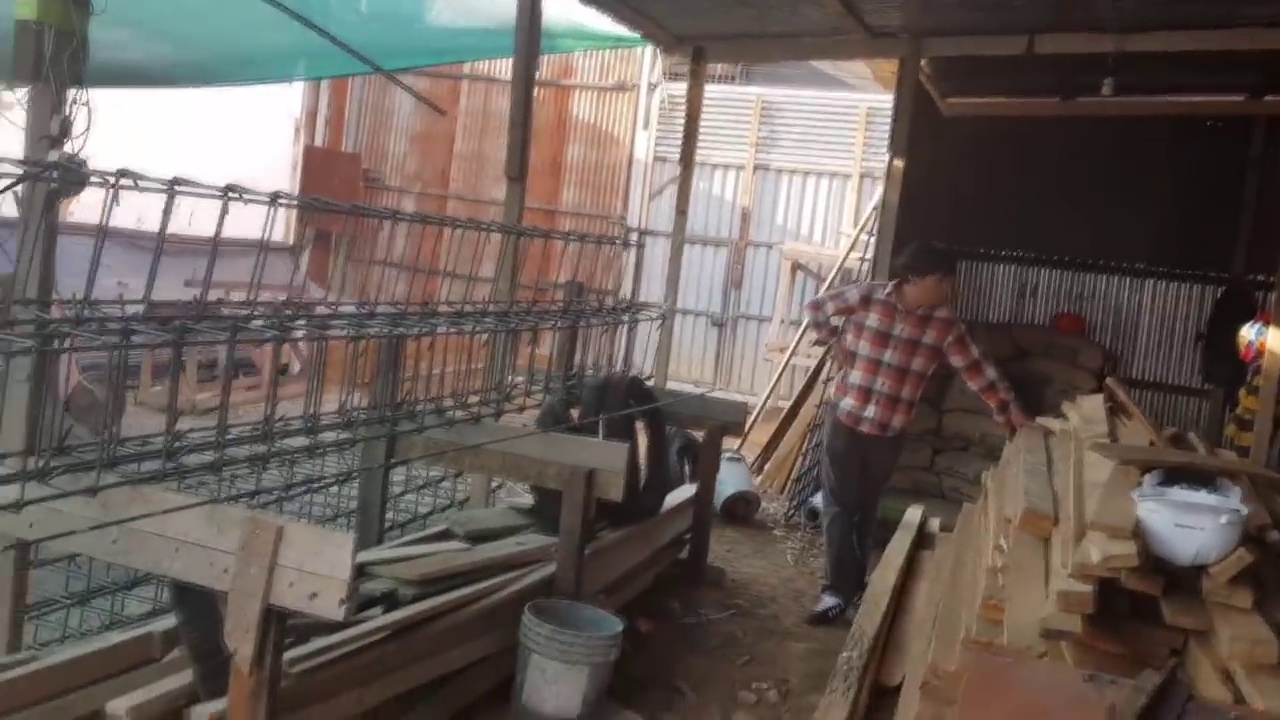helmet: (1134, 485, 1250, 569)
helmet-off: (884, 228, 962, 320)
person: (810, 226, 1028, 627), (8, 1, 96, 348)
